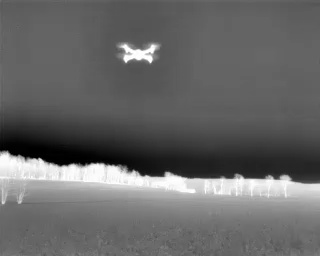DRONE: (111, 39, 166, 69)
